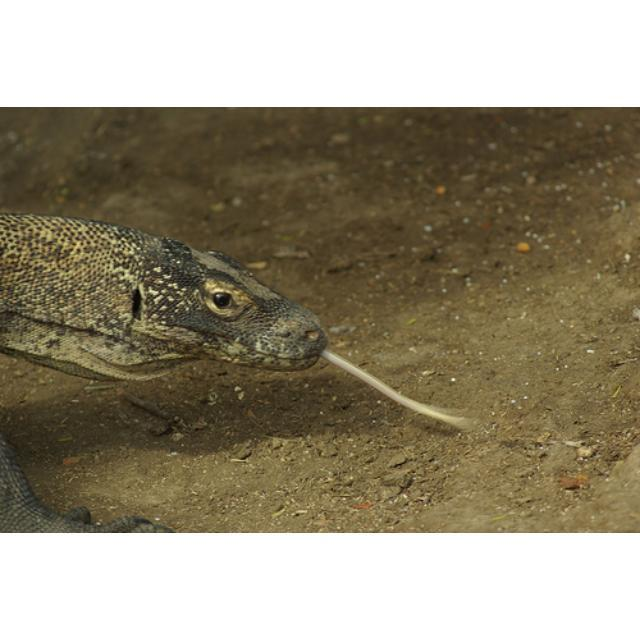KomodoDragon: (1, 208, 472, 530)
